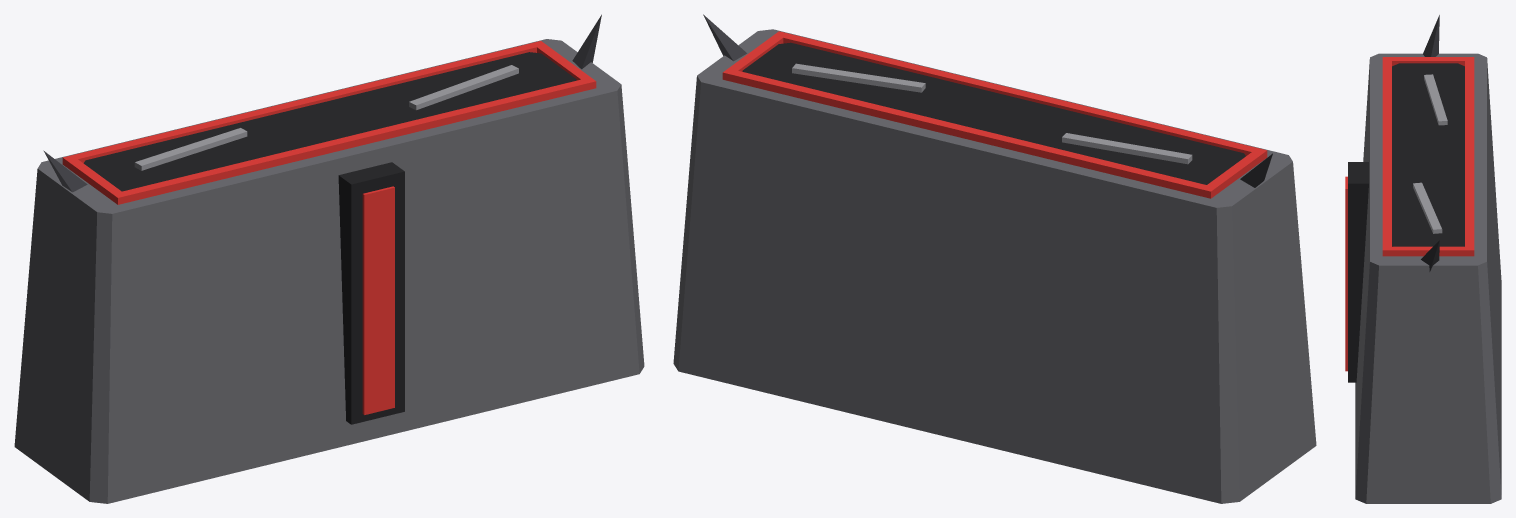
Rendered from void_monolith_top_e.obj.
3 views of the same model, side by side, from view 1: azimuth 30°, elevation 25°; view 2: azimuth 150°, elevation 25°; view 3: azimuth 270°, elevation 25° (orthographic). The views are drawn at different scales.
Parts seen in each view (by area): view 1: void_monolith_top_e_0, void_monolith_top_e_1, void_monolith_top_e_4, void_monolith_top_e_5, void_monolith_top_e_8, void_monolith_top_e_9, void_monolith_top_e_2, void_monolith_top_e_3, void_monolith_top_e_10; view 2: void_monolith_top_e_0, void_monolith_top_e_1, void_monolith_top_e_9, void_monolith_top_e_8, void_monolith_top_e_3, void_monolith_top_e_2, void_monolith_top_e_10; view 3: void_monolith_top_e_0, void_monolith_top_e_1, void_monolith_top_e_4, void_monolith_top_e_8, void_monolith_top_e_9, void_monolith_top_e_11, void_monolith_top_e_3, void_monolith_top_e_5, void_monolith_top_e_2, void_monolith_top_e_10, void_monolith_top_e_6, void_monolith_top_e_7.
Part boxes in pixels (x1,y1,x2,y2): void_monolith_top_e_0: (14,39,644,503); void_monolith_top_e_1: (83,52,576,191); void_monolith_top_e_4: (338,162,404,424); void_monolith_top_e_5: (362,186,394,414); void_monolith_top_e_8: (112,77,596,204); void_monolith_top_e_9: (62,41,546,168); void_monolith_top_e_2: (134,128,247,170); void_monolith_top_e_3: (409,65,518,110); void_monolith_top_e_10: (68,159,121,200); void_monolith_top_e_0: (673,29,1316,503); void_monolith_top_e_1: (742,42,1245,184); void_monolith_top_e_9: (722,68,1216,198); void_monolith_top_e_8: (774,31,1267,161); void_monolith_top_e_3: (792,63,925,92); void_monolith_top_e_2: (1062,133,1192,164); void_monolith_top_e_10: (1207,152,1261,193); void_monolith_top_e_0: (1355,53,1501,503); void_monolith_top_e_1: (1392,63,1464,246); void_monolith_top_e_4: (1348,162,1368,382); void_monolith_top_e_8: (1382,57,1391,256); void_monolith_top_e_9: (1465,57,1474,256); void_monolith_top_e_11: (1392,246,1464,256); void_monolith_top_e_3: (1413,182,1442,233); void_monolith_top_e_5: (1345,176,1347,371); void_monolith_top_e_2: (1424,74,1447,125); void_monolith_top_e_10: (1392,57,1464,66); void_monolith_top_e_6: (1423,15,1439,56); void_monolith_top_e_7: (1421,240,1439,271).
Bounding box in the file's own units: 2.92 × 1.6 × 0.855.
